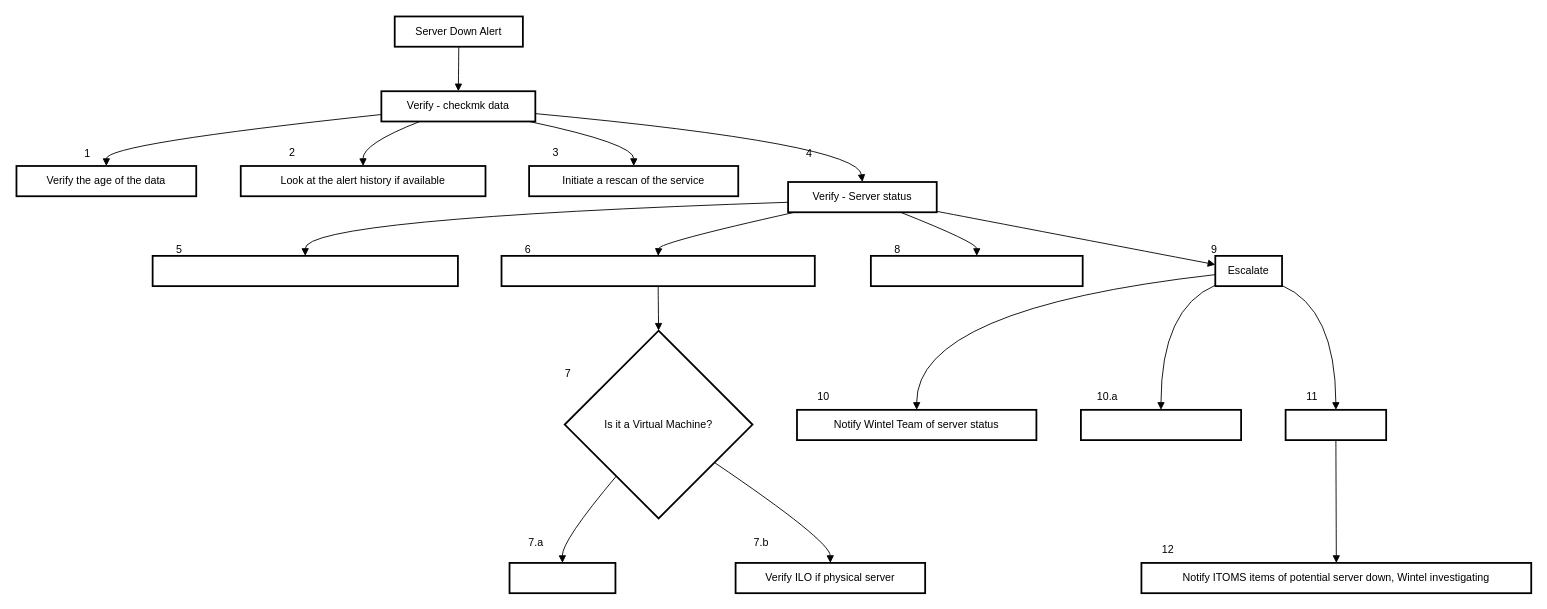
Image size: 1547x609. Some labels were removed from this diagram. Each missing label, with the box of its shape:
Communicate: (1284, 409, 1387, 441)
Escalate if no response: (1080, 409, 1242, 441)
Log in to the console for status: (870, 255, 1083, 287)
Ping computer for status and name resolution: (151, 255, 458, 287)
Verify the type of server and environment/app: (500, 255, 815, 287)
Verify vCenter: (508, 562, 616, 594)
